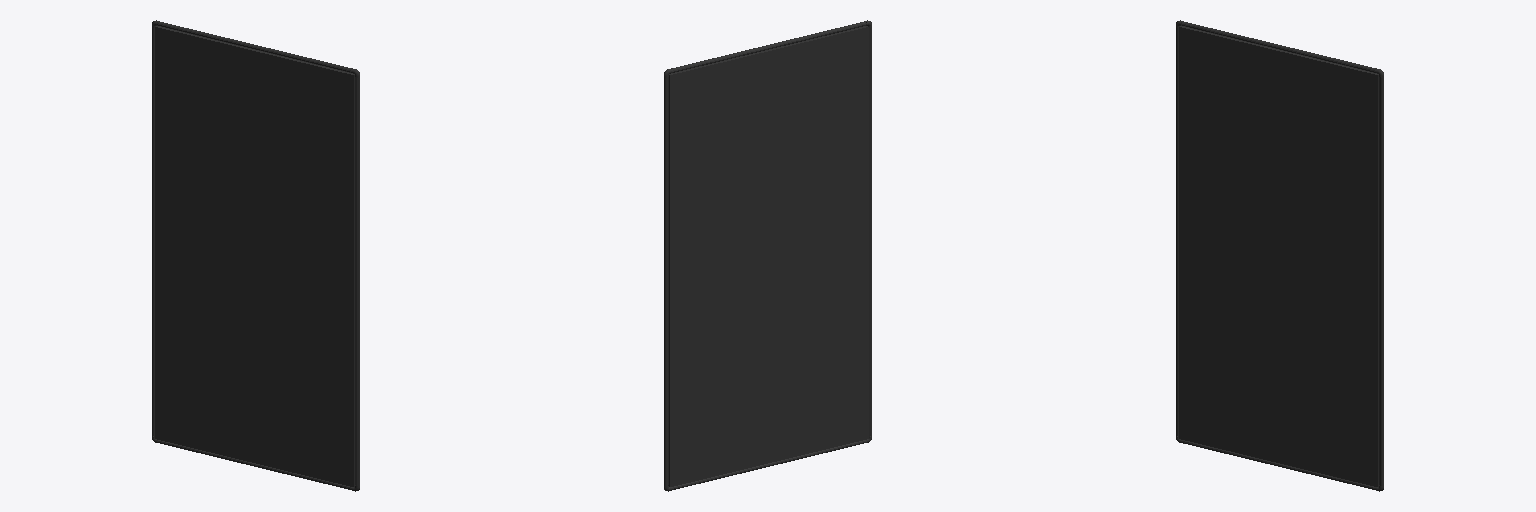
robot.urdf — Gate_URDF_NEW:
<?xml version="1.0" encoding="utf-8"?>
<!-- This URDF was automatically created by SolidWorks to URDF Exporter! Originally created by [author] ([email redacted]) 
     Commit Version: 1.5.0-0-g9aa0fdb  Build Version: 1.5.7004.21443
     For more information, please see http://wiki.ros.org/sw_urdf_exporter -->
<robot
  name="Gate_URDF_NEW">
  <link
    name="base_link">
    <inertial>
      <origin
        xyz="0.168322864208956 -2.1192209241693 2.20919586667273"
        rpy="0 0 0" />
      <mass
        value="12.801733573456" />
      <inertia
        ixx="2.52655639008521"
        ixy="3.91009741138073E-10"
        ixz="-4.22941253318381"
        iyy="9.63160274761318"
        iyz="2.3275950760761E-10"
        izz="7.11378358707341" />
    </inertial>
    <visual>
      <origin
        xyz="0 0 0"
        rpy="0 0 0" />
      <geometry>
        <mesh
          filename="package://Gate_URDF_NEW/meshes/base_link.STL" />
      </geometry>
      <material
        name="">
        <color
          rgba="0.250980392156863 0.250980392156863 0.250980392156863 1" />
      </material>
    </visual>
    <collision>
      <origin
        xyz="0 0 0"
        rpy="0 0 0" />
      <geometry>
        <mesh
          filename="package://Gate_URDF_NEW/meshes/base_link.STL" />
      </geometry>
    </collision>
  </link>
  <link
    name="Left">
    <inertial>
      <origin
        xyz="-1.72084568816899E-15 0.7625 -7.105427357601E-15"
        rpy="0 0 0" />
      <mass
        value="6.20904372055487" />
      <inertia
        ixx="1.20533733871674"
        ixy="-3.29366482151843E-34"
        ixz="-6.52530446799852E-52"
        iyy="0.00402346033091955"
        iyz="1.40026273599015E-33"
        izz="1.20533733871674" />
    </inertial>
    <visual>
      <origin
        xyz="0 0 0"
        rpy="0 0 0" />
      <geometry>
        <mesh
          filename="package://Gate_URDF_NEW/meshes/Left.STL" />
      </geometry>
      <material
        name="">
        <color
          rgba="0.792156862745098 0.819607843137255 0.933333333333333 1" />
      </material>
    </visual>
    <collision>
      <origin
        xyz="0 0 0"
        rpy="0 0 0" />
      <geometry>
        <mesh
          filename="package://Gate_URDF_NEW/meshes/Left.STL" />
      </geometry>
    </collision>
  </link>
  <joint
    name="Left"
    type="continuous">
    <origin
      xyz="-0.387916034858449 -2.1192209241693 0.0175757150527073"
      rpy="1.5707963267949 -0.536941728756498 0" />
    <parent
      link="base_link" />
    <child
      link="Left" />
    <axis
      xyz="0 1 0" />
    <safety_controller
      k_velocity="0" />
  </joint>
  <link
    name="Middle">
    <inertial>
      <origin
        xyz="-6.32827124036339E-15 0.3048 -1.77635683940025E-15"
        rpy="0 0 0" />
      <mass
        value="1.23555551703134" />
      <inertia
        ixx="0.038461570623003"
        ixy="-1.8485162729718E-35"
        ixz="0"
        iyy="0.000398565498683969"
        iyz="6.54920110171591E-35"
        izz="0.038461570623003" />
    </inertial>
    <visual>
      <origin
        xyz="0 0 0"
        rpy="0 0 0" />
      <geometry>
        <mesh
          filename="package://Gate_URDF_NEW/meshes/Middle.STL" />
      </geometry>
      <material
        name="">
        <color
          rgba="0.792156862745098 0.819607843137255 0.933333333333333 1" />
      </material>
    </visual>
    <collision>
      <origin
        xyz="0 0 0"
        rpy="0 0 0" />
      <geometry>
        <mesh
          filename="package://Gate_URDF_NEW/meshes/Middle.STL" />
      </geometry>
    </collision>
  </link>
  <joint
    name="Middle"
    type="fixed">
    <origin
      xyz="0.171988973006556 -2.13896595145136 1.46041339340233"
      rpy="1.5707963267949 -0.536941728756498 0" />
    <parent
      link="base_link" />
    <child
      link="Middle" />
    <axis
      xyz="0 0 0" />
    <safety_controller
      k_velocity="0" />
  </joint>
  <link
    name="Right">
    <inertial>
      <origin
        xyz="-2.22044604925031E-15 0.7625 -7.80220332785575E-12"
        rpy="0 0 0" />
      <mass
        value="6.20904372055487" />
      <inertia
        ixx="1.20533733871674"
        ixy="4.2453167721409E-15"
        ixz="-4.34385773452136E-26"
        iyy="0.00402346033091955"
        iyz="1.2291990986631E-11"
        izz="1.20533733871674" />
    </inertial>
    <visual>
      <origin
        xyz="0 0 0"
        rpy="0 0 0" />
      <geometry>
        <mesh
          filename="package://Gate_URDF_NEW/meshes/Right.STL" />
      </geometry>
      <material
        name="">
        <color
          rgba="0.792156862745098 0.819607843137255 0.933333333333333 1" />
      </material>
    </visual>
    <collision>
      <origin
        xyz="0 0 0"
        rpy="0 0 0" />
      <geometry>
        <mesh
          filename="package://Gate_URDF_NEW/meshes/Right.STL" />
      </geometry>
    </collision>
  </link>
  <joint
    name="Right"
    type="continuous">
    <origin
      xyz="2.36005192355092 -2.11922092418566 1.65338624795541"
      rpy="1.5707963267949 -0.536941728756498 0" />
    <parent
      link="base_link" />
    <child
      link="Right" />
    <axis
      xyz="0 1 0" />
    <safety_controller
      k_velocity="0" />
  </joint>
  <gazebo reference="Right">
    <material>Gazebo/Red</material>
  </gazebo>
  <gazebo reference="Left">
    <material>Gazebo/Red</material>
  </gazebo>
  <gazebo reference="Middle">
    <material>Gazebo/Red</material>
  </gazebo>
</robot>

--- Render facts (derived) ---
3 views of the same robot in one strip: view 1: azimuth 90°, elevation 25°; view 2: azimuth 150°, elevation 25°; view 3: azimuth 270°, elevation 25° (orthographic).
Model Gate_URDF_NEW with 4 links and 3 joints (2 continuous, 1 fixed), rooted at base_link, posed all joints at 0.
Links seen in each view (by area): view 1: base_link; view 2: base_link; view 3: base_link.
Link boxes in pixels (x1,y1,x2,y2): base_link: [152, 20, 359, 491]; base_link: [664, 20, 871, 491]; base_link: [1176, 20, 1383, 491].
Size in the robot's own frame: 0.3319 by 0.5643 by 1.26 metres.
Meshes: 4 distinct files referenced, 1 mesh visuals loaded (1 binary STL); not drawn: 3 (reference not matched to a file when rendering).